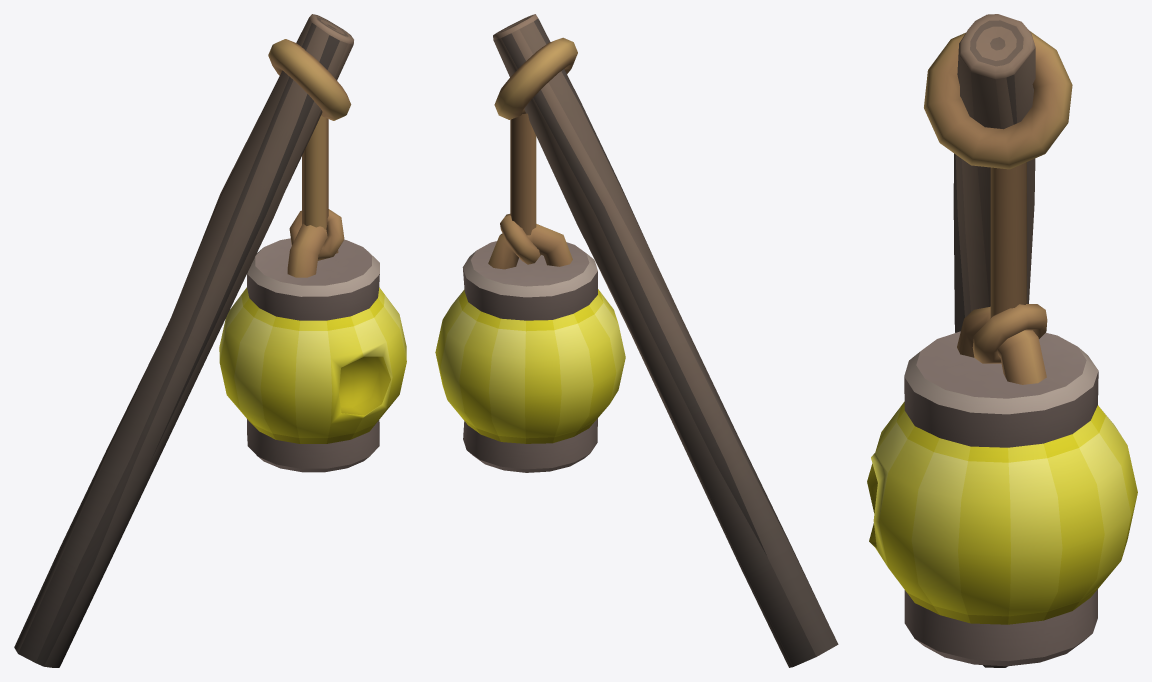
Rendered from elf_lantern_small.fbx.
The picture shows the model from 3 angles, left to right: view 1: azimuth 30°, elevation 25°; view 2: azimuth 150°, elevation 25°; view 3: azimuth 270°, elevation 25°; orthographic projection. The views are drawn at different scales.
Parts seen in each view (by area): view 1: elf_lantern_small; view 2: elf_lantern_small; view 3: elf_lantern_small.
Boxes of the visible parts, <box> form: elf_lantern_small: <box>14,14,406,667</box>; elf_lantern_small: <box>435,14,838,667</box>; elf_lantern_small: <box>867,14,1137,667</box>.
Bounding box in the file's own units: 276 × 400 × 118.
